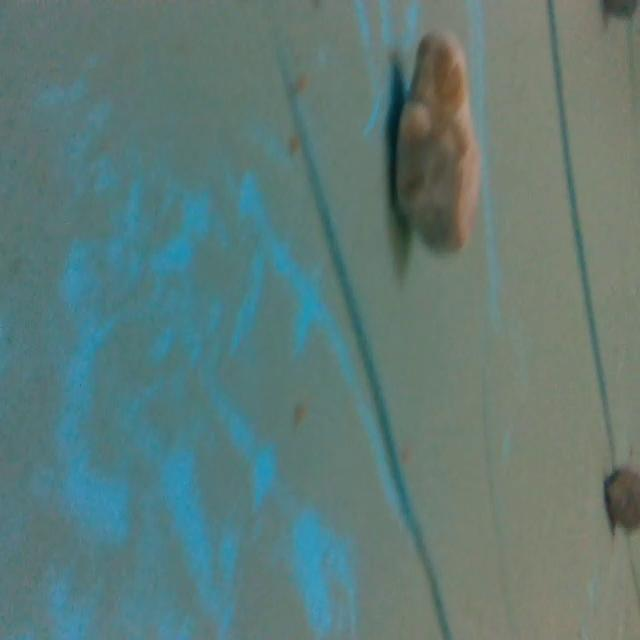rock: (385, 24, 492, 262)
